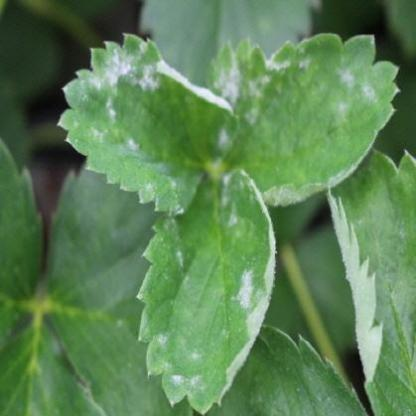Strawberry_Powdery_Mildew_Leaf: (203, 31, 403, 208), (136, 166, 278, 415), (55, 32, 239, 214), (326, 146, 416, 416)
